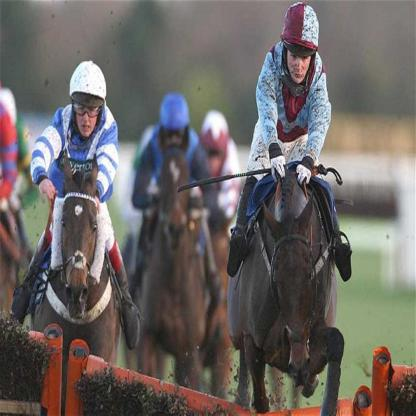face: (289, 32, 314, 83), (78, 84, 99, 139)
